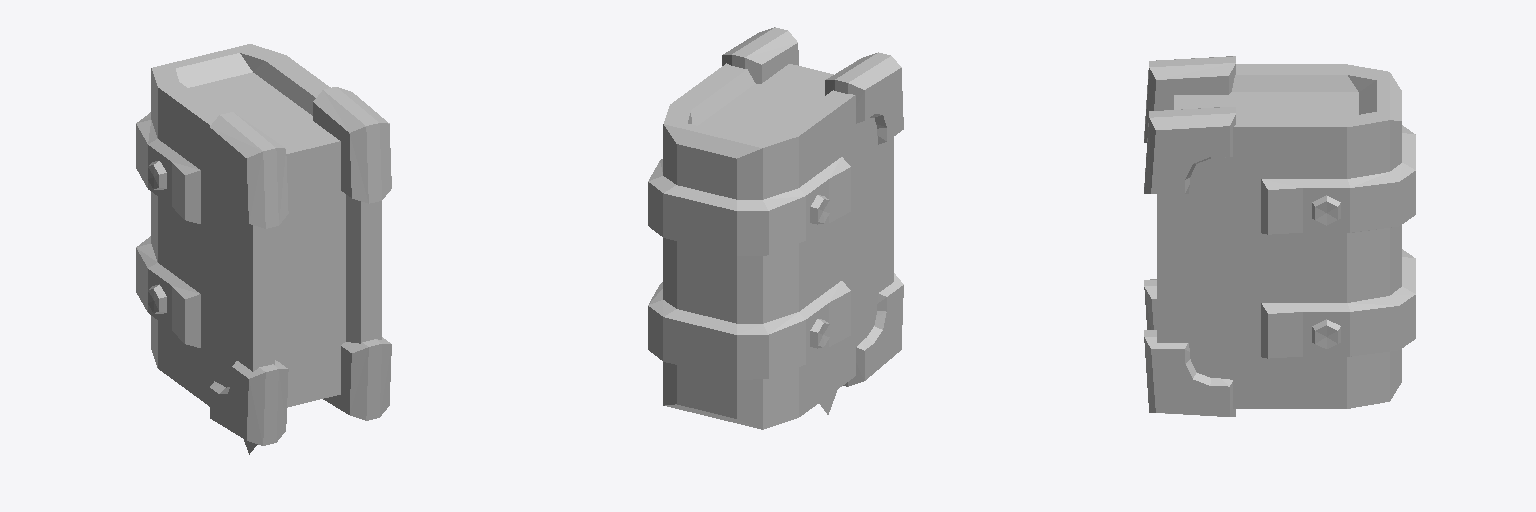
Rendered from journal_closed.obj.
The picture shows the model from 3 angles: view 1: azimuth 30°, elevation 25°; view 2: azimuth 150°, elevation 25°; view 3: azimuth 270°, elevation 25°; orthographic projection.
Parts seen in each view (by area): view 1: journal_closed; view 2: journal_closed; view 3: journal_closed.
Part boxes in pixels (x1,y1,x2,y2): journal_closed: (136, 44, 391, 454); journal_closed: (648, 27, 903, 429); journal_closed: (1144, 56, 1415, 416).
Bounding box in the file's own units: 0.3835 × 0.7914 × 0.5691.